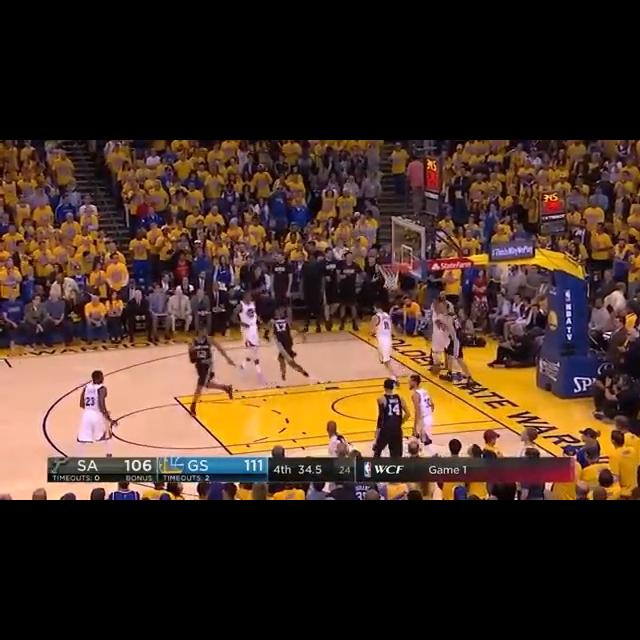hoop: (371, 256, 409, 295)
